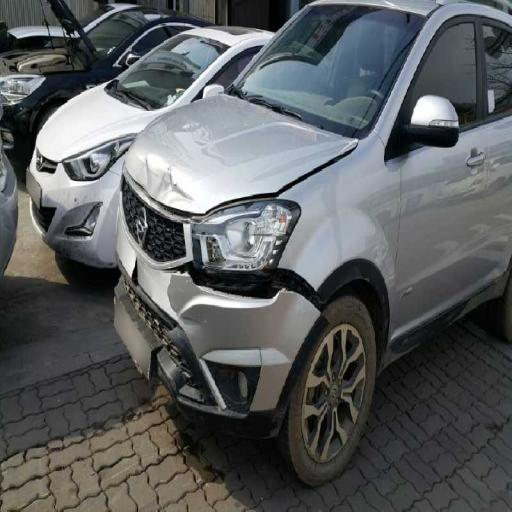broken: (128, 232, 241, 432), (264, 224, 394, 350)
dent: (164, 100, 254, 203)
